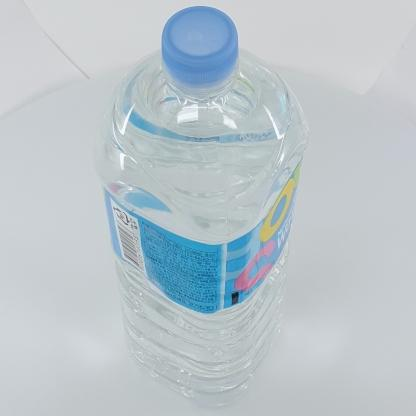--------1-5L: (93, 6, 309, 407)
